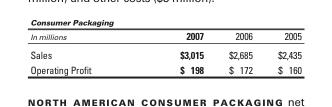table: (29, 28, 300, 75)
table column: (29, 28, 134, 75), (134, 28, 215, 75), (215, 28, 264, 75), (264, 28, 300, 75)
table column header: (29, 28, 300, 44)
table row: (29, 44, 300, 61), (29, 28, 300, 44), (29, 61, 300, 75)
